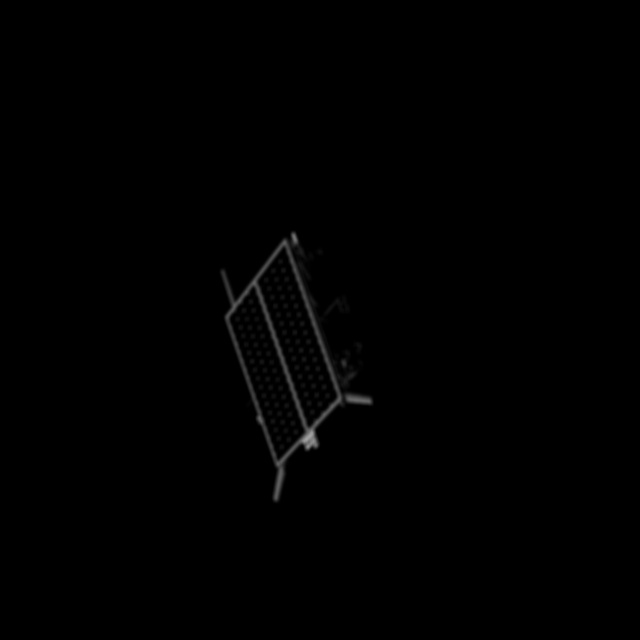medium_debris: (194, 216, 380, 510)
